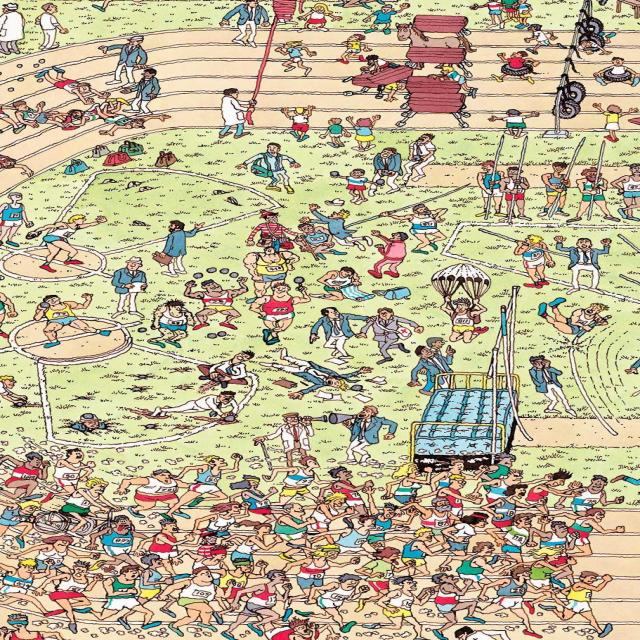waldo: (259, 210, 279, 223)
